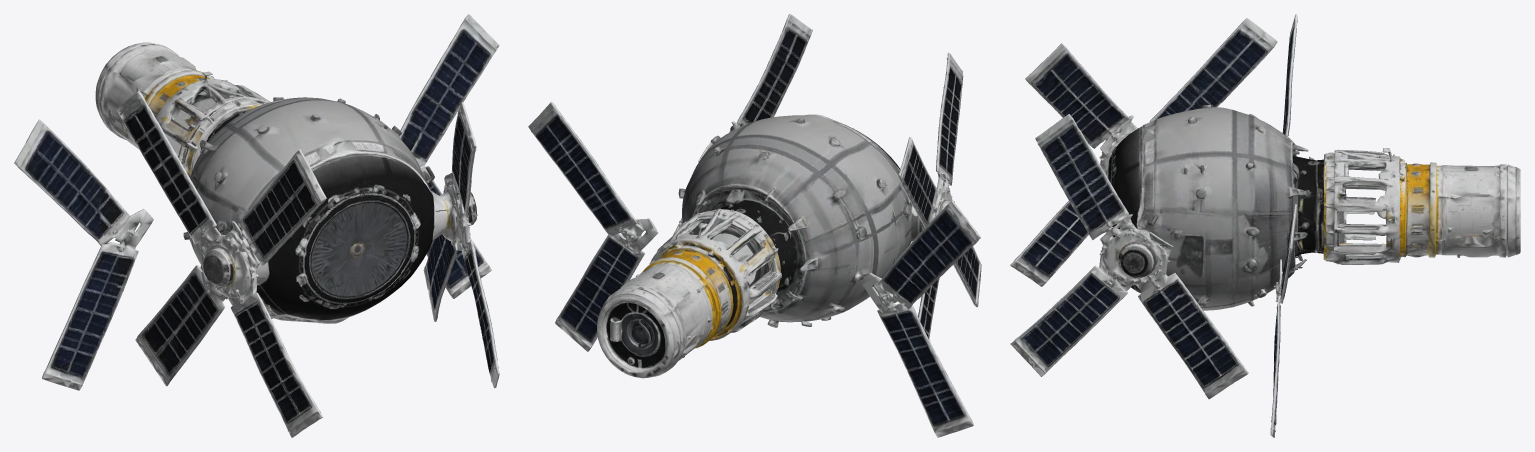
File: orion.glb
3 renders of one model, left to right at view 1: azimuth 30°, elevation 25°; view 2: azimuth 150°, elevation 25°; view 3: azimuth 270°, elevation 25°, orthographic. The views are drawn at different scales.
Parts seen in each view (by area): view 1: orion; view 2: orion; view 3: orion.
Boxes of the visible parts, x1,y1,x2,y2 form: orion: (14,14,499,437); orion: (528,14,981,437); orion: (1010,14,1520,437).
Bounding box in the file's own units: 18.98 × 11.42 × 19.01.
Materials: 1 (1 with a texture image).
